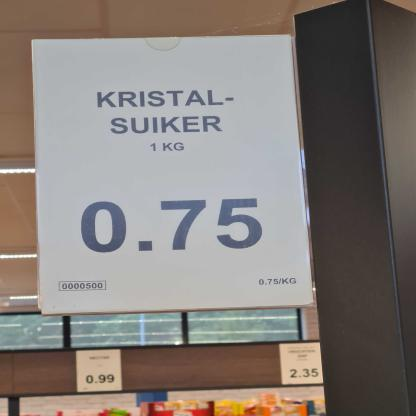prtg: (29, 34, 309, 316)
